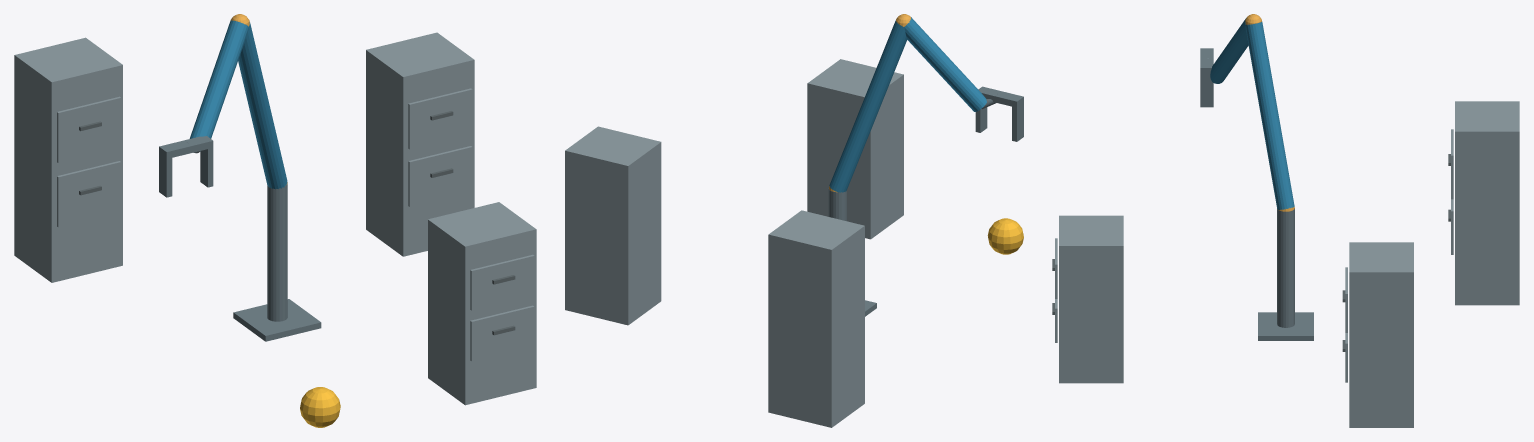
3 views of the same model, side by side, from view 1: azimuth 30°, elevation 25°; view 2: azimuth 150°, elevation 25°; view 3: azimuth 270°, elevation 25° (orthographic). The views are drawn at different scales.
Parts seen in each view (by area): view 1: cabinet_3 body, cabinet_2 body, cabinet_1 body, cabinet_3 drawer front, cabinet_3 drawer front.001, moving link 1, cabinet_2 drawer front.001, cabinet_2 drawer front, fixed post, cabinet_1 drawer front.001, cabinet_1 drawer front, moving link 2 (+5 smaller); view 2: cabinet_3 body, cabinet_2 body, cabinet_1 body, moving link 1, moving link 2, ball ball_1, fixed post, gripper bridge; view 3: cabinet_3 body, cabinet_2 body, cabinet_1 body, moving link 1, fixed post, pedestal, moving link 2, gripper finger 1.
Part boxes in pixels (x1,y1,x2,y2): cabinet_3 body: [14, 37, 122, 282]; cabinet_2 body: [366, 32, 474, 256]; cabinet_1 body: [428, 202, 536, 405]; cabinet_3 drawer front: [57, 161, 121, 227]; cabinet_3 drawer front.001: [57, 96, 121, 163]; moving link 1: [238, 22, 287, 189]; cabinet_2 drawer front.001: [408, 88, 472, 149]; cabinet_2 drawer front: [408, 146, 472, 206]; fixed post: [267, 184, 287, 321]; cabinet_1 drawer front.001: [470, 254, 534, 310]; cabinet_1 drawer front: [470, 305, 534, 361]; moving link 2: [189, 20, 248, 138]; cabinet_3 body: [768, 210, 864, 427]; cabinet_2 body: [565, 126, 661, 325]; cabinet_1 body: [807, 59, 903, 239]; moving link 1: [829, 20, 907, 192]; moving link 2: [904, 17, 986, 111]; ball ball_1: [987, 218, 1023, 254]; fixed post: [828, 189, 846, 221]; gripper bridge: [978, 86, 1023, 107]; cabinet_3 body: [1455, 101, 1519, 305]; cabinet_2 body: [1349, 242, 1413, 427]; cabinet_1 body: [1059, 215, 1123, 383]; moving link 1: [1245, 22, 1294, 209]; fixed post: [1277, 208, 1294, 327]; pedestal: [1258, 312, 1313, 340]; moving link 2: [1210, 18, 1248, 83]; gripper finger 1: [1200, 74, 1213, 107].
Bounding box in the file's own units: 1.77 × 1.44 × 2.1.
